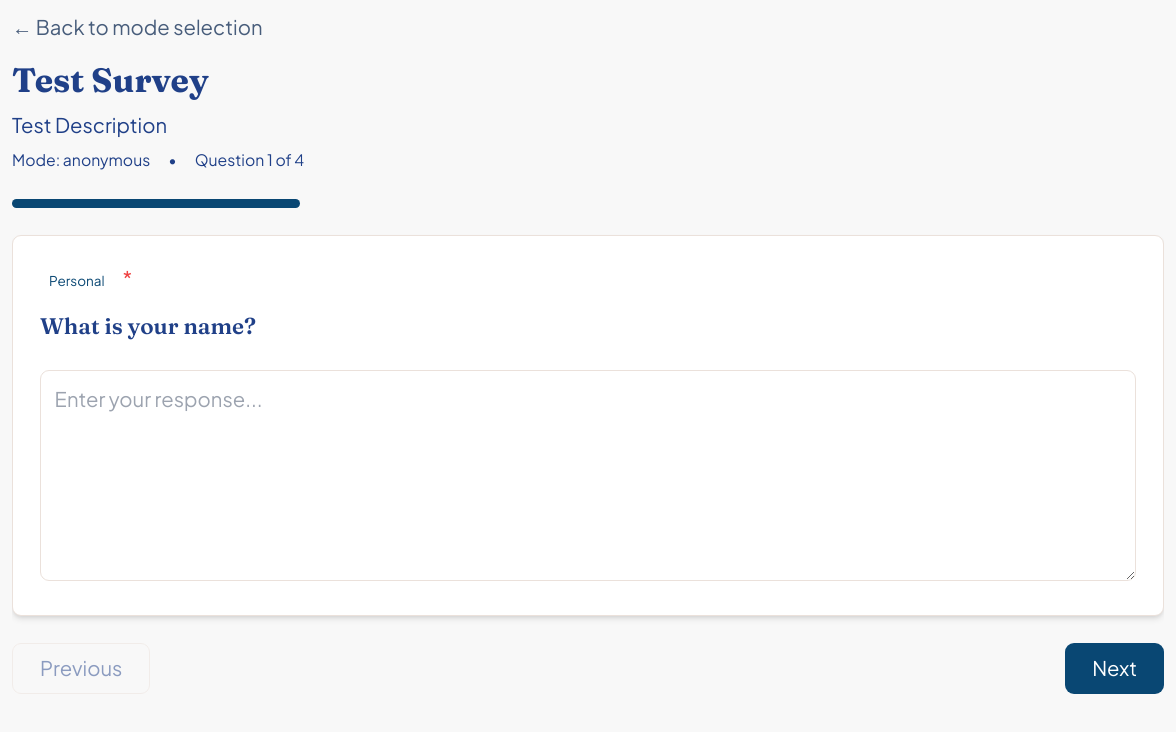
Test: SurveyForm › Question Navigation › should navigate to next question
This screenshot has width=1176, height=732.
Fill first question
In the text box with placeholder "Enter your response...": (588, 475) [40, 370, 1136, 581], type "John Doe"
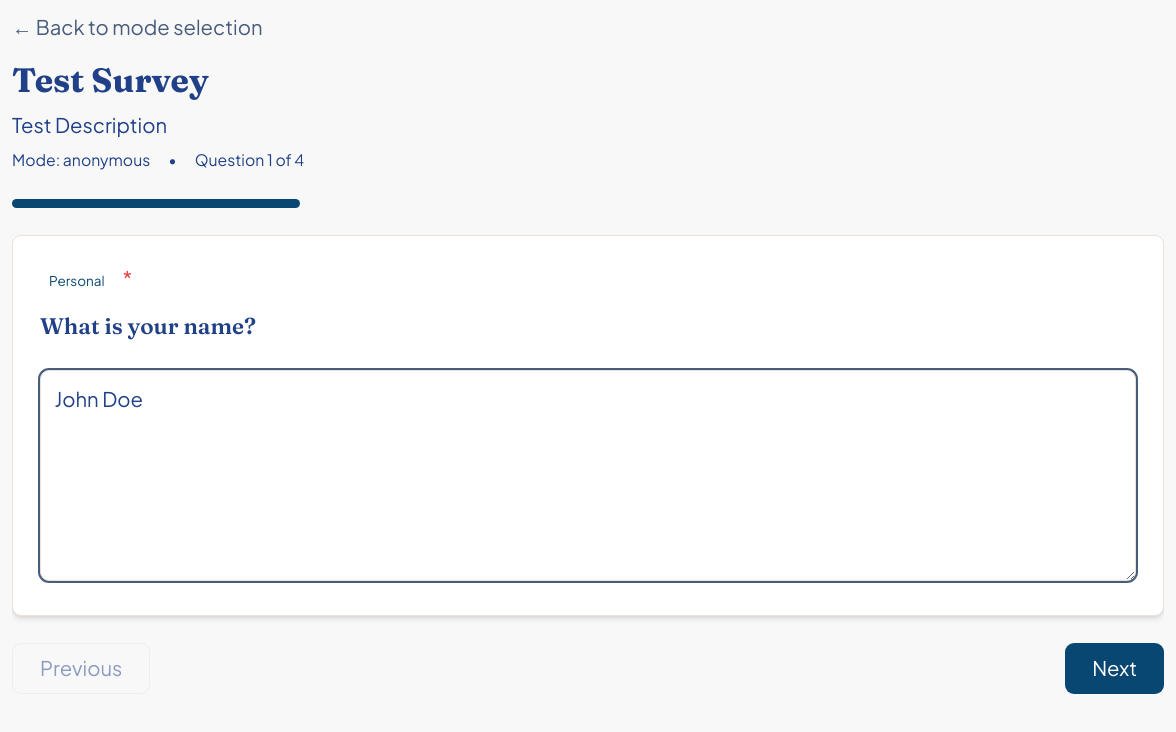
Click Next
Click the button "Next": (1115, 668) [1065, 643, 1164, 694]
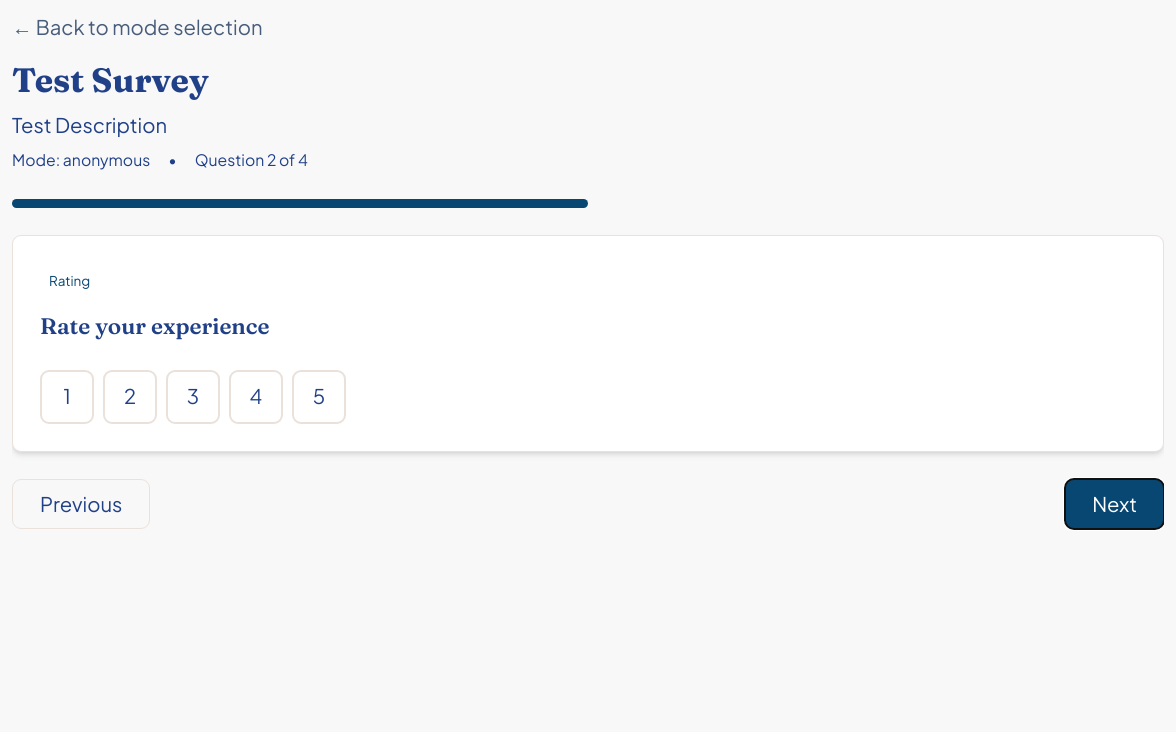
Check: the heading "Rate your experience" is shown, box [40, 312, 270, 340]
Check: the text "Question 2 of 4" is shown, box [195, 149, 308, 172]
